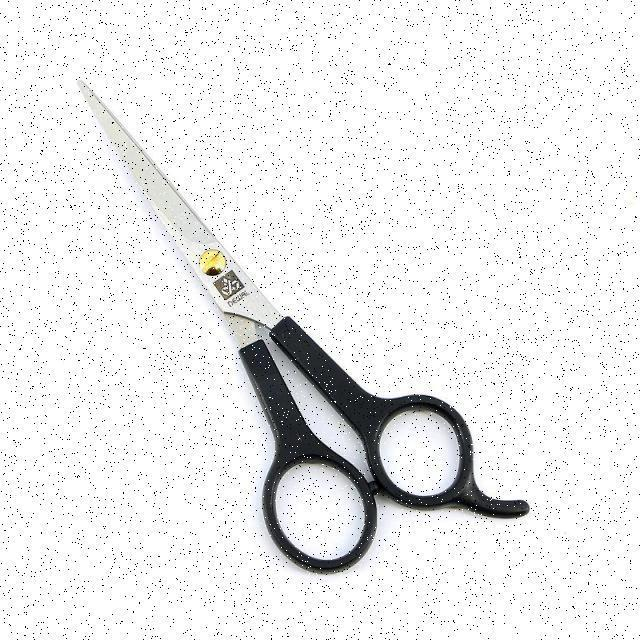scissors: (67, 68, 542, 582)
